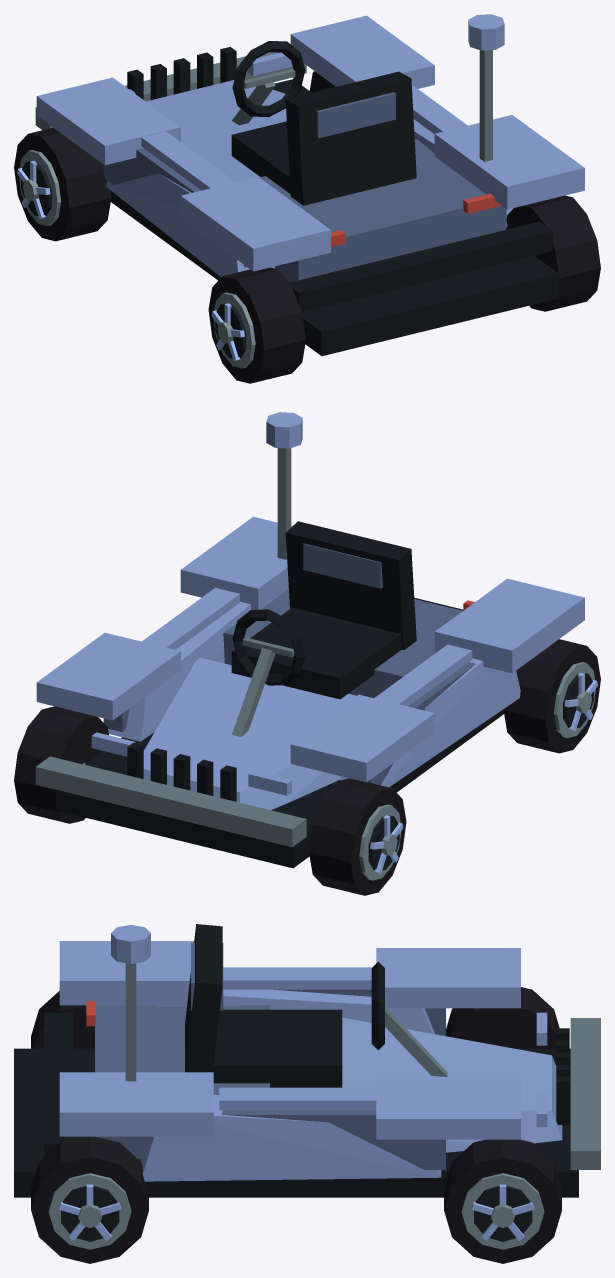
File: kart.glb
The picture shows the model from 3 angles, top to bottom: view 1: azimuth 30°, elevation 25°; view 2: azimuth 150°, elevation 25°; view 3: azimuth 270°, elevation 25°; orthographic projection. The views are drawn at different scales.
Parts seen in each view (by area): view 1: chassis, wheel-rear-left, wheel-front-left, wheel-rear-right; view 2: chassis, wheel-front-left, wheel-rear-left, wheel-front-right; view 3: chassis, wheel-rear-right, wheel-front-right, wheel-front-left, wheel-rear-left.
Boxes of the visible parts, x1=… form: chassis: x1=35, y1=14, x2=584, y2=355; wheel-rear-left: x1=208, y1=267, x2=305, y2=383; wheel-front-left: x1=14, y1=127, x2=111, y2=241; wheel-rear-right: x1=506, y1=195, x2=600, y2=311; chassis: x1=35, y1=412, x2=584, y2=868; wheel-front-left: x1=309, y1=778, x2=406, y2=895; wheel-rear-left: x1=503, y1=639, x2=600, y2=753; wheel-front-right: x1=14, y1=706, x2=108, y2=823; chassis: x1=14, y1=924, x2=600, y2=1197; wheel-rear-right: x1=31, y1=1136, x2=148, y2=1263; wheel-front-right: x1=444, y1=1139, x2=561, y2=1263; wheel-front-left: x1=446, y1=987, x2=559, y2=1048; wheel-rear-left: x1=31, y1=991, x2=94, y2=1048.
Bounding box in the file's own units: 2.34 × 1.72 × 3.09.
